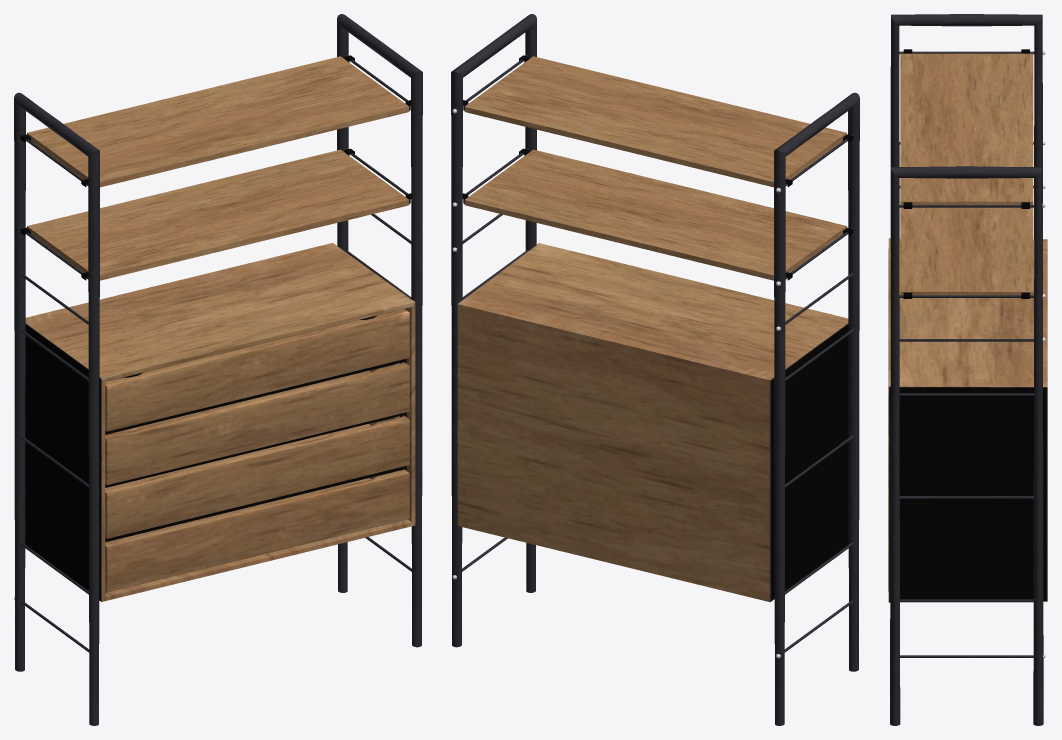
File: atelier-drawer-cabinet.glb
3 views of the same model, side by side, from view 1: azimuth 30°, elevation 25°; view 2: azimuth 150°, elevation 25°; view 3: azimuth 270°, elevation 25° (orthographic). The views are drawn at different scales.
Parts seen in each view (by area): view 1: drawer_cabinet, drawer_cabinet_drawer_03, drawer_cabinet_drawer_02, drawer_cabinet_drawer_04, drawer_cabinet_drawer_01; view 2: drawer_cabinet; view 3: drawer_cabinet.
Part boxes in pixels (x1,y1,x2,y2): drawer_cabinet: [14, 14, 422, 725]; drawer_cabinet_drawer_03: [105, 416, 409, 538]; drawer_cabinet_drawer_02: [105, 362, 409, 485]; drawer_cabinet_drawer_04: [105, 469, 409, 592]; drawer_cabinet_drawer_01: [105, 309, 409, 431]; drawer_cabinet: [451, 14, 859, 725]; drawer_cabinet: [888, 14, 1047, 725].
Bounding box in the file's own units: 1.14 × 1.88 × 0.4881.
1 material, 1 textured.
